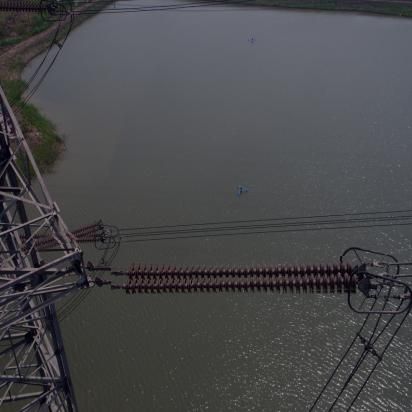insulator: (112, 259, 360, 297), (19, 226, 106, 251)
